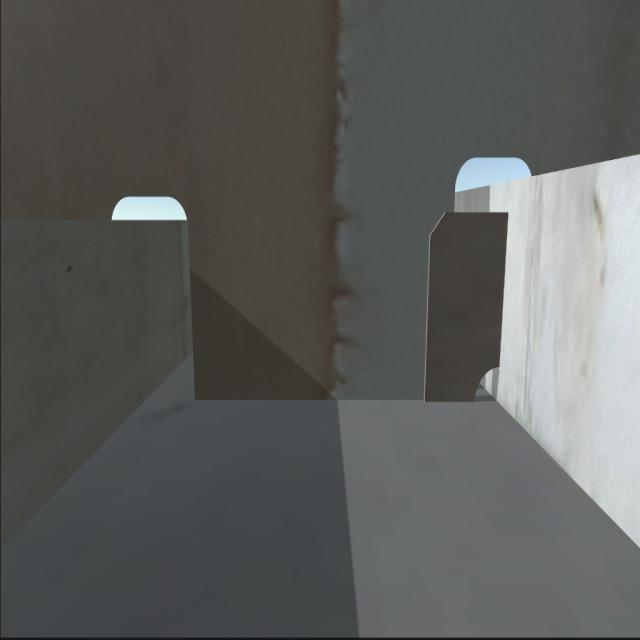fillet_hole: (471, 361, 501, 406)
fillet_yong_jeop_jang: (194, 389, 473, 409)
longi_yong_jeop_jang: (497, 206, 509, 372)
plate_CP03: (427, 204, 499, 404)
